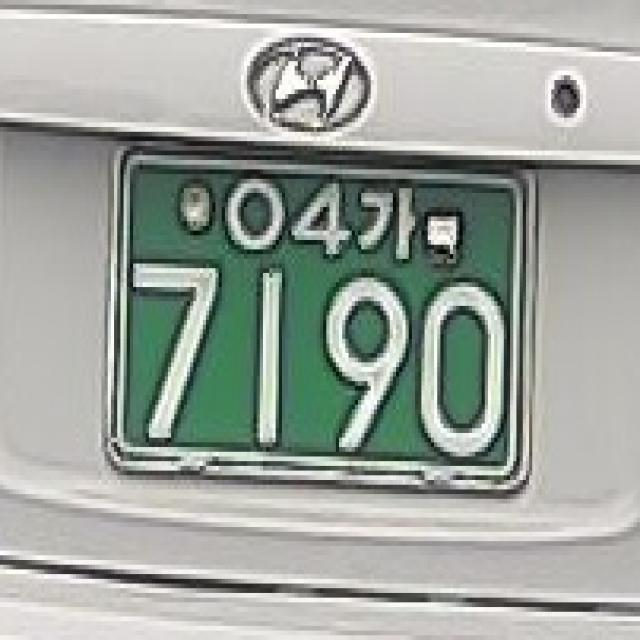0: (420, 274, 506, 463), (224, 176, 286, 253)
1: (250, 252, 292, 456)
4: (290, 182, 353, 262)
7: (130, 258, 230, 444)
9: (316, 270, 417, 458)
ga: (358, 183, 418, 265)
license_plate: (95, 135, 558, 512)
